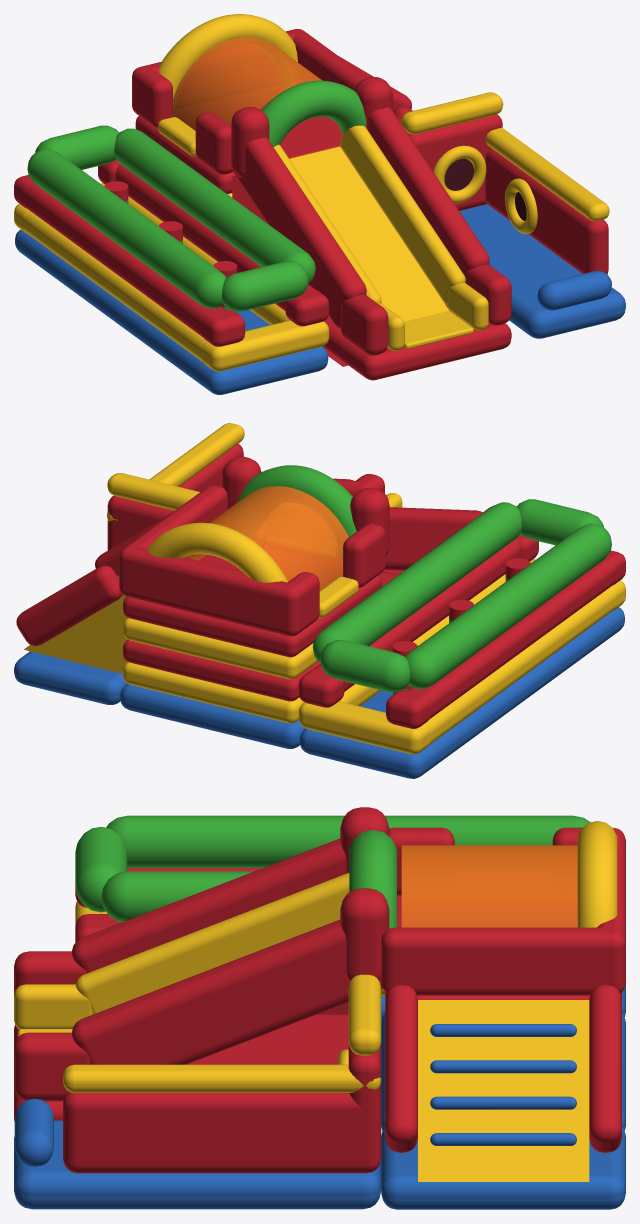
The model's file is megatobogan-v3.glb.
The picture shows the model from 3 angles, top to bottom: view 1: azimuth 30°, elevation 25°; view 2: azimuth 150°, elevation 25°; view 3: azimuth 270°, elevation 25°; orthographic projection. The views are drawn at different scales.
Visible parts, largest first — view 1: rojo, amarillo, verde, azul, naranja, hueco; view 2: rojo, amarillo, verde, azul, naranja; view 3: rojo, amarillo, azul, verde, naranja.
Boxes of the visible parts, x1,y1,x2,y2 form: rojo: (14,29,608,380); amarillo: (14,14,609,371); verde: (27,80,366,312); azul: (15,204,625,394); naranja: (173,37,321,130); hueco: (444,158,526,220); rojo: (16,443,625,728); amarillo: (24,423,625,754); verde: (236,465,611,694); azul: (14,471,624,778); naranja: (185,486,348,590); rojo: (14,807,625,1173); amarillo: (14,821,625,1181); azul: (14,984,625,1209); verde: (75,815,589,928); naranja: (401,845,577,927).
Size of the model in its own units: 7.5 by 3.5 by 7.5.
